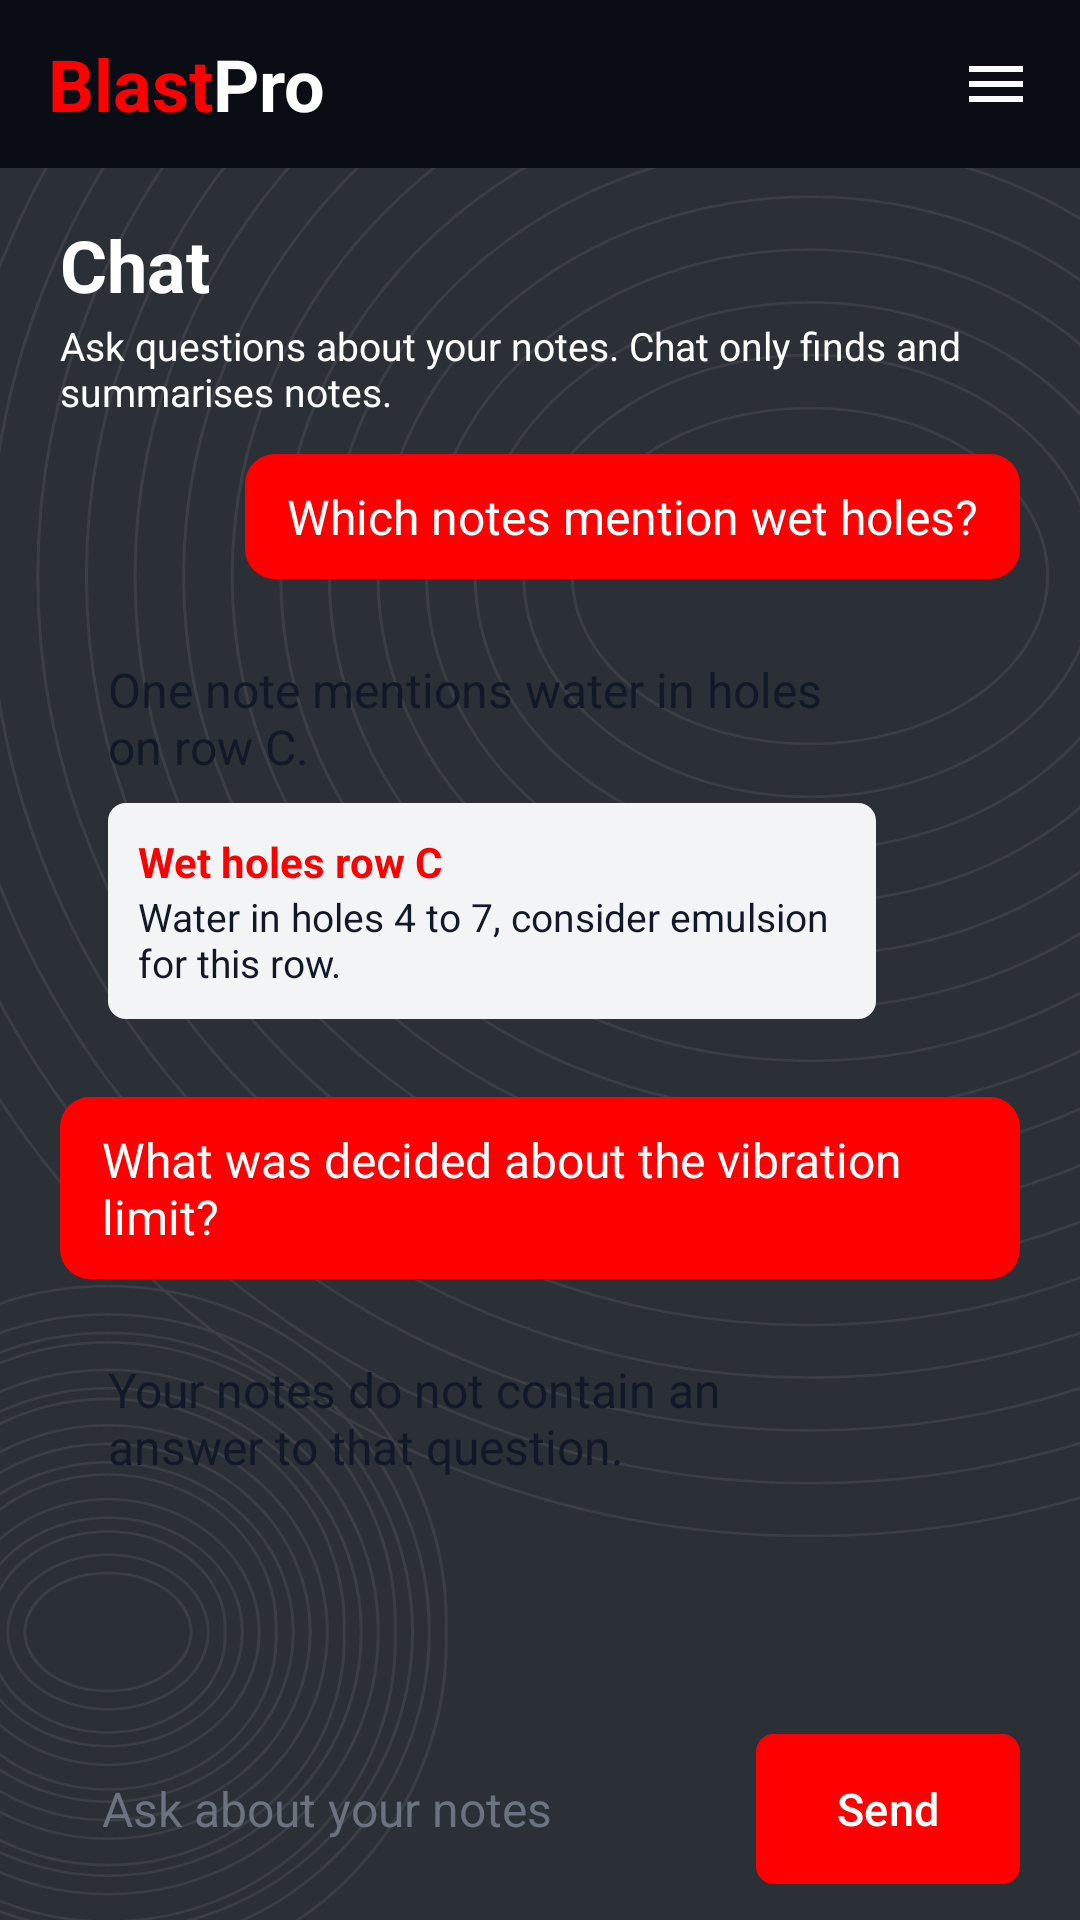

Icon bounding boxes for this 1080px x 1920px phone screenshot, format (x1, y1, x2, y2):
Menu: (969, 66, 1023, 102)
